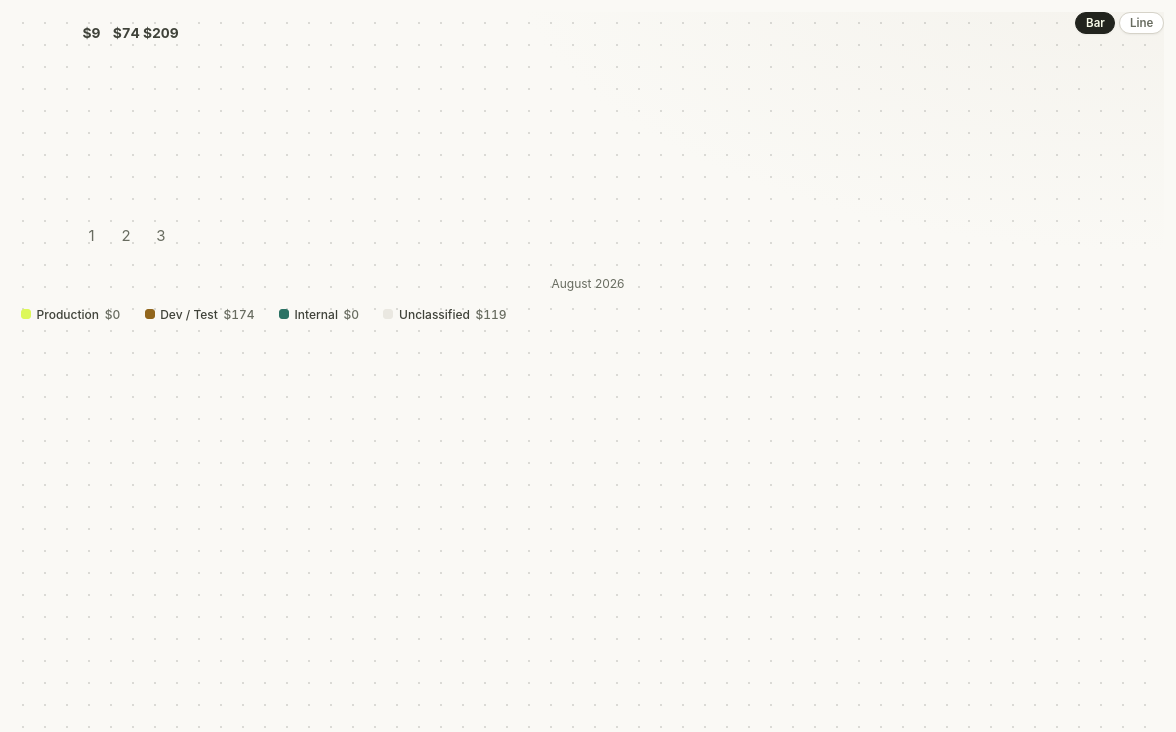
Scenario: ClassificationTrendChart › toggles between bar and line views
Expected: the element named "Classification legend" is shown, top-left (12, 303), bottom-right (516, 325)
Click the button "Line" at (1142, 23), box top-left (1119, 12), bottom-right (1164, 34)
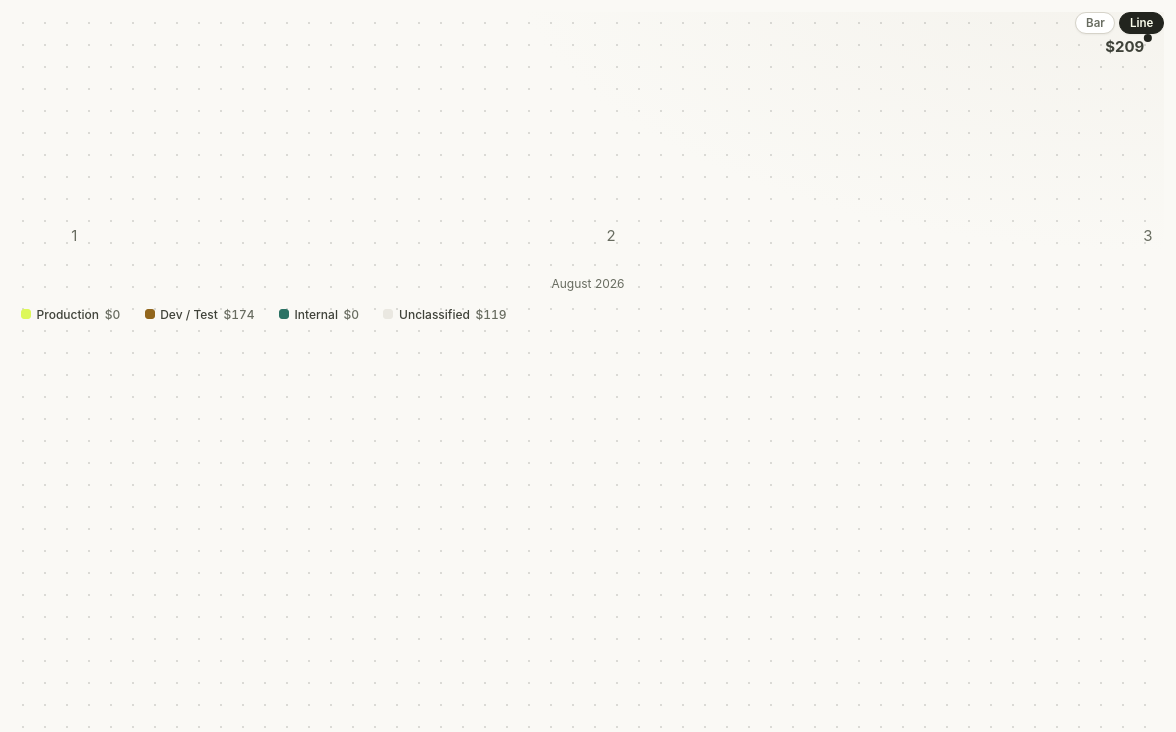
Expected: the element named "Classification legend" is shown, top-left (12, 303), bottom-right (516, 325)
Expected: the picture named "Total inference cost trend" is shown, top-left (12, 38), bottom-right (1164, 269)
